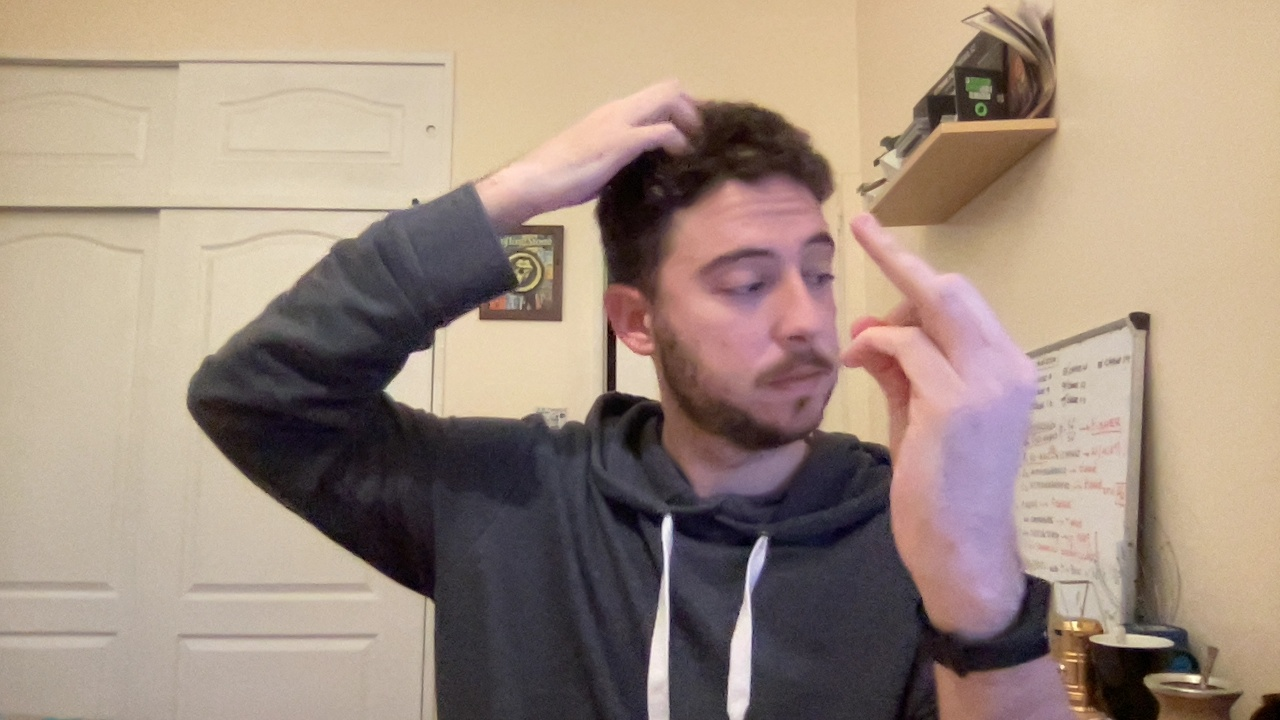anular: (828, 203, 1054, 532)
